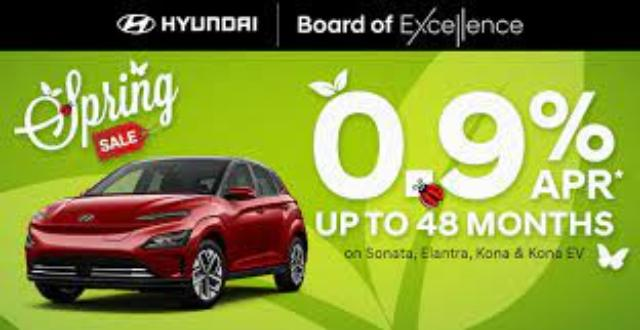hyundai: (24, 155, 308, 309)
